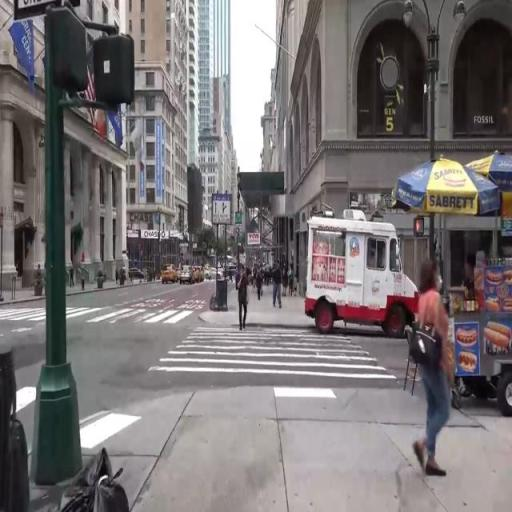person: (411, 262, 453, 479), (237, 267, 253, 332), (273, 258, 284, 311), (283, 265, 290, 299), (257, 270, 264, 303), (290, 267, 296, 300), (71, 266, 76, 287), (115, 266, 120, 283), (254, 264, 256, 289), (124, 264, 128, 275)
